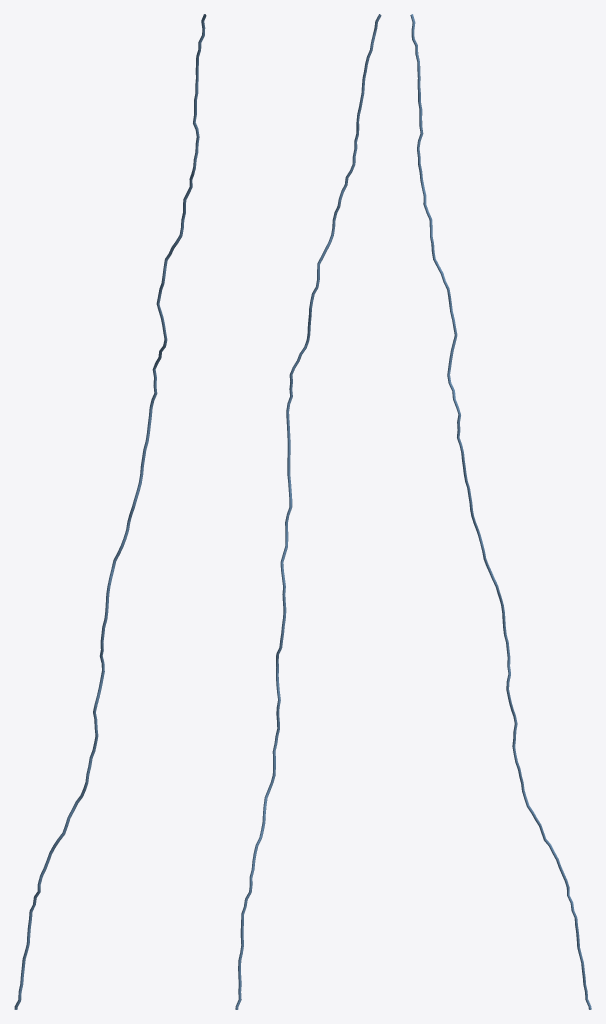
The model's file is sweep36.fbx.
The picture shows the model from 3 angles, left to right: view 1: azimuth 90°, elevation 25°; view 2: azimuth 150°, elevation 25°; view 3: azimuth 270°, elevation 25°; orthographic projection. The views are drawn at different scales.
Parts seen in each view (by area): view 1: sweep36; view 2: sweep36; view 3: sweep36.
Part boxes in pixels (x1,y1,x2,y2): sweep36: (14, 14, 206, 1009); sweep36: (235, 14, 381, 1009); sweep36: (410, 14, 591, 1009).
Size of the model in its own units: 0.5587 by 7.2 by 1.22.
